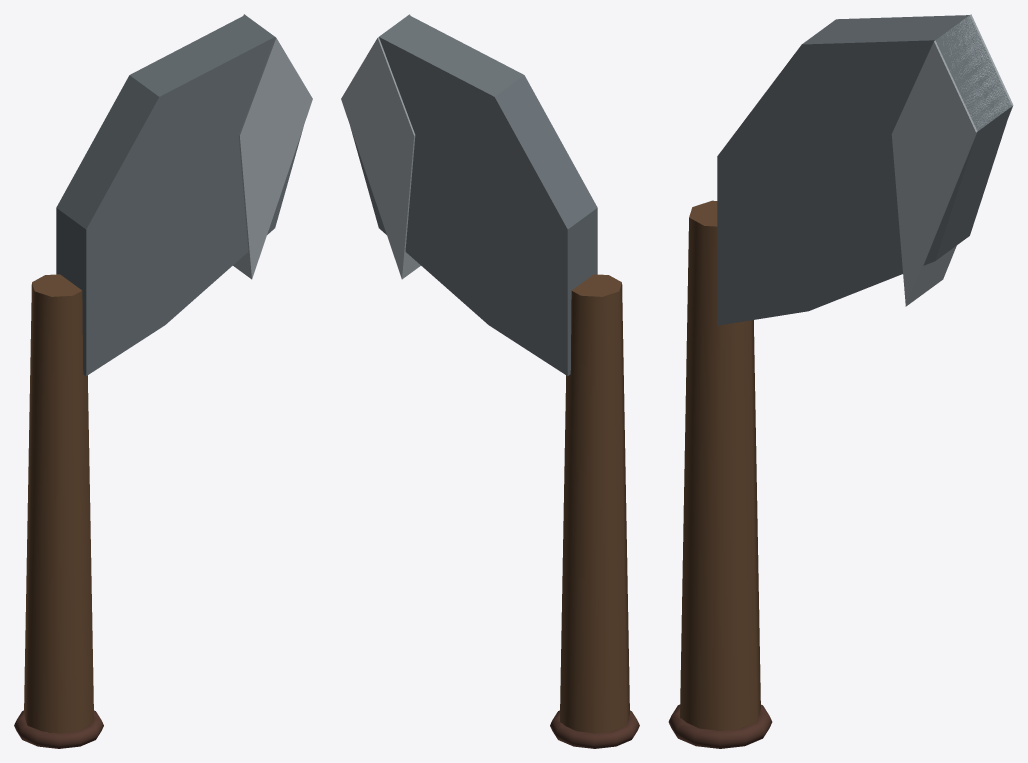
File: battleaxe.glb
3 views of the same model, side by side, from view 1: azimuth 30°, elevation 25°; view 2: azimuth 150°, elevation 25°; view 3: azimuth 330°, elevation 25° (orthographic). The views are drawn at different scales.
Visible parts, largest first — view 1: battleaxe-blade, battleaxe-haft, battleaxe-cutting-edge, battleaxe-grip-wrap; view 2: battleaxe-blade, battleaxe-haft, battleaxe-cutting-edge, battleaxe-grip-wrap; view 3: battleaxe-blade, battleaxe-haft, battleaxe-cutting-edge, battleaxe-grip-wrap.
Part boxes in pixels (bbox=[...]): battleaxe-blade: bbox=[56, 15, 303, 375]; battleaxe-haft: bbox=[24, 274, 93, 733]; battleaxe-cutting-edge: bbox=[233, 14, 312, 279]; battleaxe-grip-wrap: bbox=[14, 710, 103, 748]; battleaxe-blade: bbox=[350, 15, 597, 375]; battleaxe-haft: bbox=[560, 274, 629, 733]; battleaxe-cutting-edge: bbox=[341, 14, 420, 279]; battleaxe-grip-wrap: bbox=[550, 710, 639, 748]; battleaxe-blade: bbox=[717, 15, 1011, 325]; battleaxe-haft: bbox=[680, 200, 760, 730]; battleaxe-cutting-edge: bbox=[891, 14, 1013, 306]; battleaxe-grip-wrap: bbox=[668, 704, 772, 748].
Bounding box in the file's own units: 0.454 × 1.03 × 0.128.
